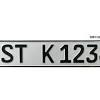1: (59, 44, 72, 64)
2: (73, 44, 85, 64)
3: (85, 44, 98, 64)
K: (42, 44, 55, 64)
S: (2, 43, 14, 63)
T: (15, 43, 28, 64)
